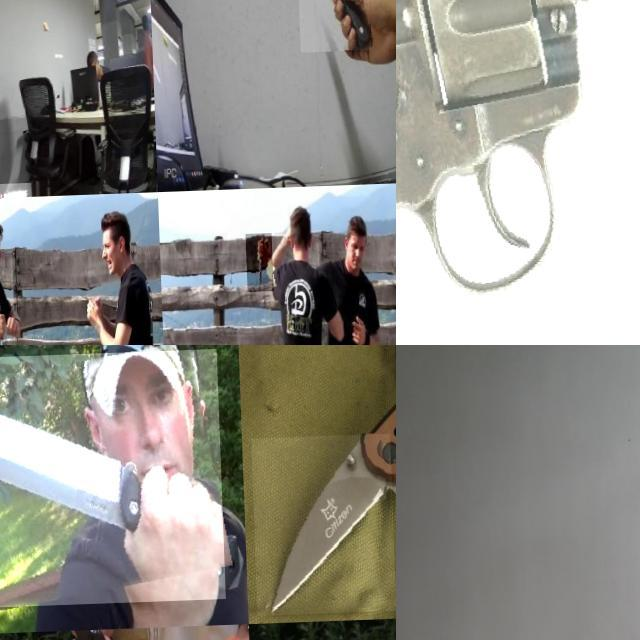-: (0, 351, 223, 610), (250, 438, 394, 618), (294, 0, 369, 83), (242, 237, 270, 296), (0, 184, 29, 199), (0, 314, 8, 345)
gun-knife-thesis - v11 Yolov5 augmented: (396, 0, 640, 345)
